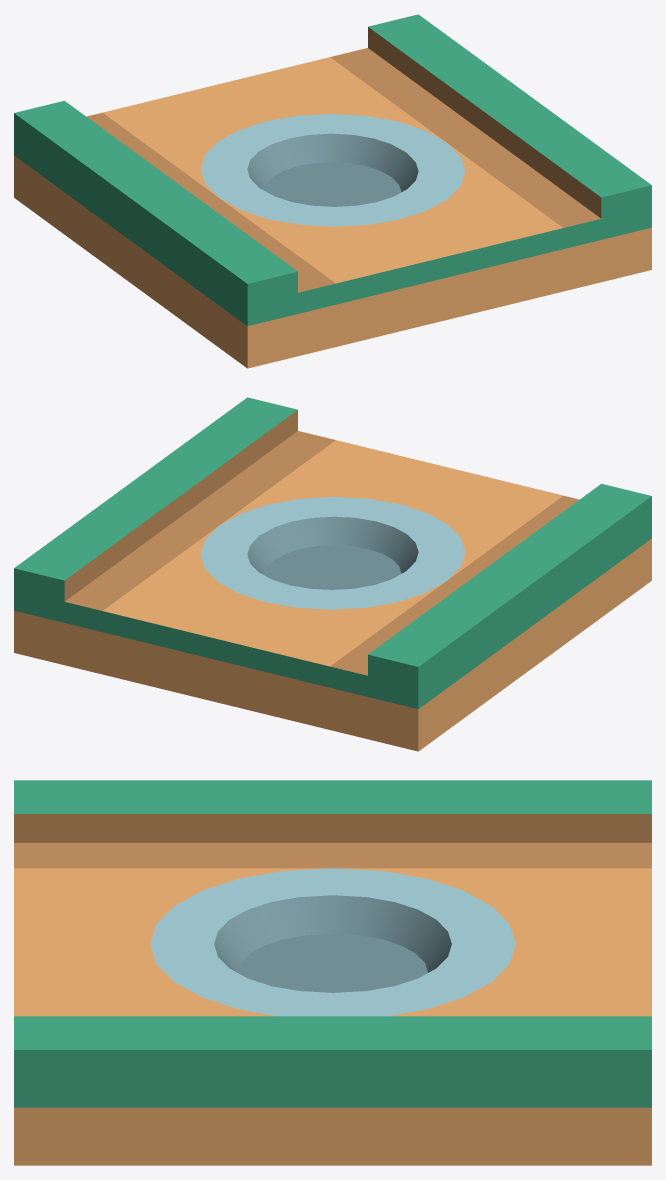
File: tile_spawnRound.dae
3 views of the same model, one above another, from view 1: azimuth 30°, elevation 25°; view 2: azimuth 150°, elevation 25°; view 3: azimuth 270°, elevation 25° (orthographic). The views are drawn at different scales.
Visible parts, largest first — view 1: tile_spawnRound; view 2: tile_spawnRound; view 3: tile_spawnRound.
Part boxes in pixels (x1=…): tile_spawnRound: x1=14, y1=14, x2=651, y2=368; tile_spawnRound: x1=14, y1=397, x2=651, y2=751; tile_spawnRound: x1=14, y1=780, x2=651, y2=1165.
Bounding box in the file's own units: 1 × 0.2 × 1.
